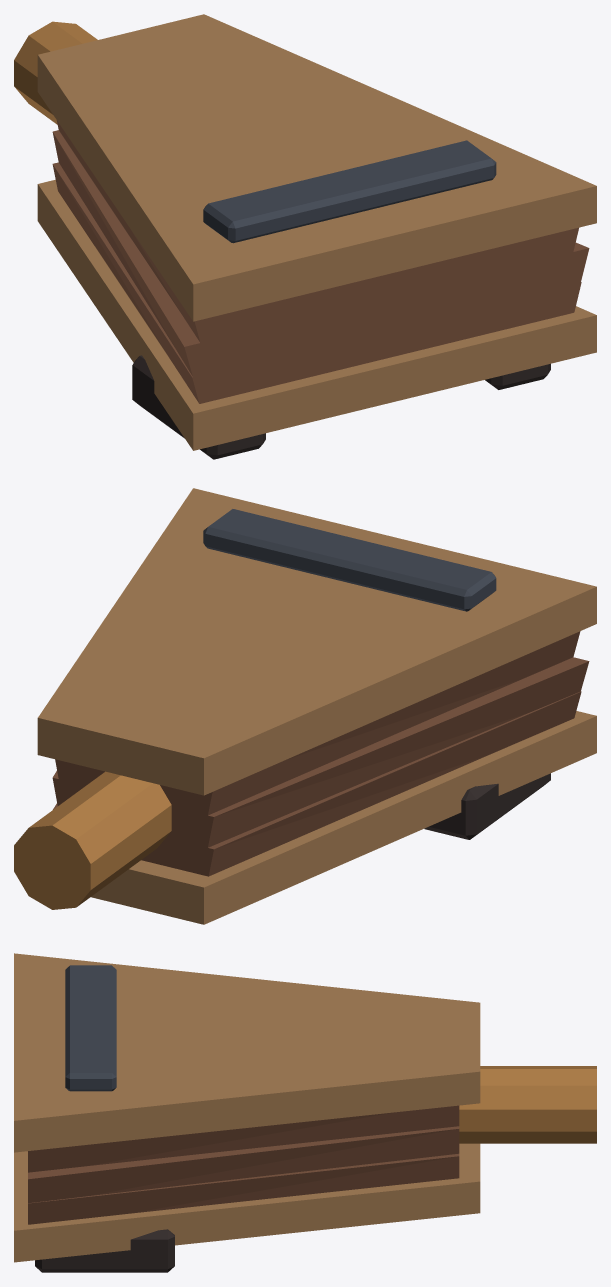
Rendered from 04_Foot_Bellows.glb.
3 renders of one model, top to bottom at view 1: azimuth 30°, elevation 25°; view 2: azimuth 150°, elevation 25°; view 3: azimuth 270°, elevation 25°, orthographic. The views are drawn at different scales.
Visible parts, largest first — view 1: 04_Foot_Bellows__Body; view 2: 04_Foot_Bellows__Body; view 3: 04_Foot_Bellows__Body.
Part boxes in pixels (x1,y1,x2,y2): 04_Foot_Bellows__Body: (14,14,596,459); 04_Foot_Bellows__Body: (14,488,596,924); 04_Foot_Bellows__Body: (14,953,596,1272).
Bounding box in the file's own units: 1.71 × 0.875 × 2.5.
Materials: 1 (1 with a texture image).
